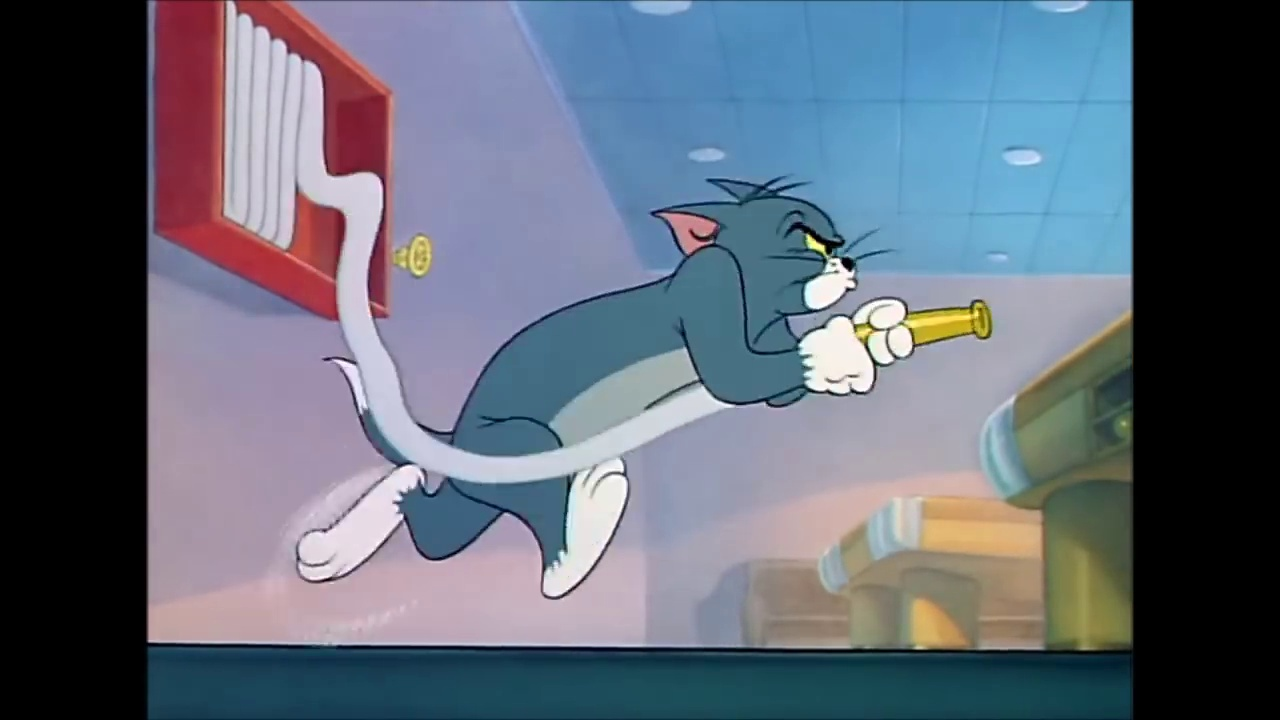angry: (783, 209, 854, 311)
